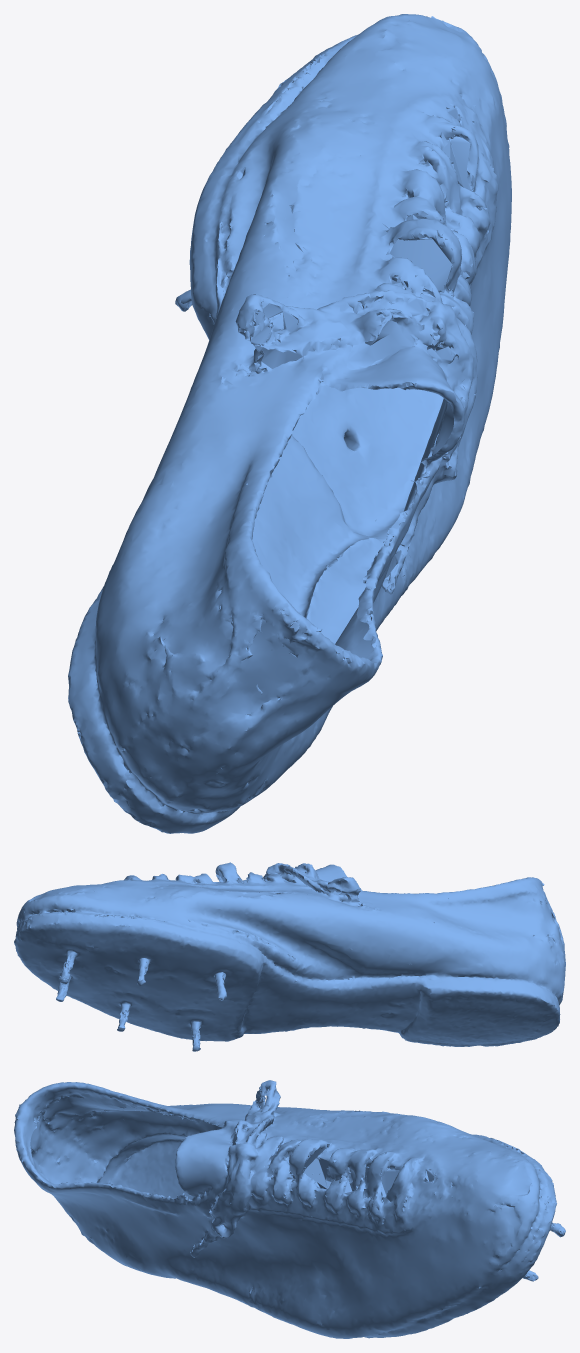
The model's file is spike.glb.
3 views of the same model, one above another, from view 1: azimuth 30°, elevation 25°; view 2: azimuth 150°, elevation 25°; view 3: azimuth 270°, elevation 25° (orthographic). The views are drawn at different scales.
Parts seen in each view (by area): view 1: Object_2, Object_3; view 2: Object_2, Object_3; view 3: Object_2, Object_3.
Part boxes in pixels (<box>): Object_2: <box>72,14,511,833</box>; Object_3: <box>68,64,477,833</box>; Object_2: <box>14,863,565,1047</box>; Object_3: <box>105,862,565,1051</box>; Object_2: <box>14,1081,565,1338</box>; Object_3: <box>14,1080,519,1337</box>.
Bounding box in the file's own units: 5.5 × 3.02 × 6.04.
